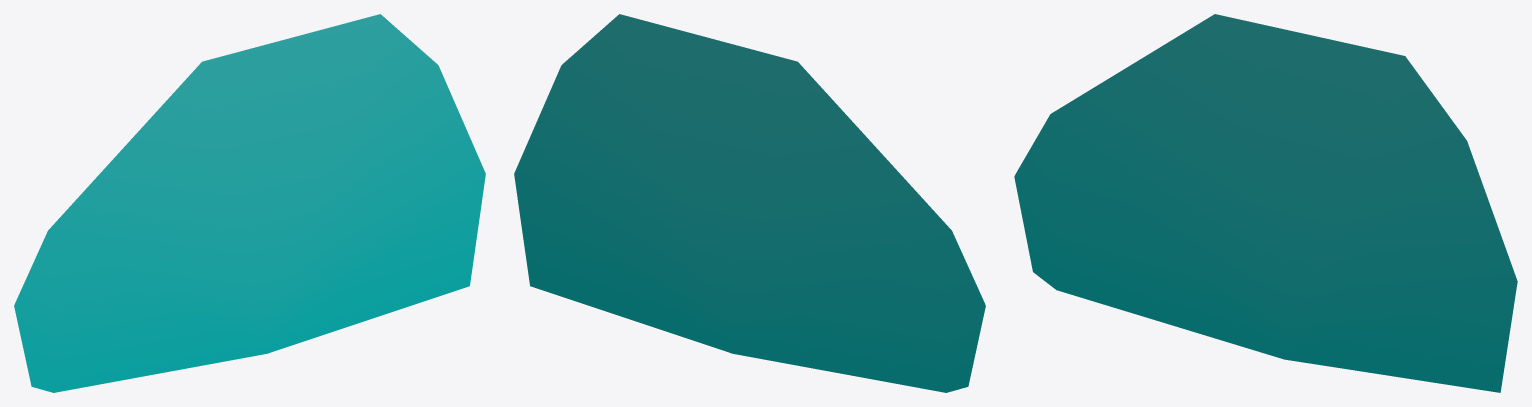
The model's file is Wild_Grass_vdilbaiia_Mid_vdilbaiia_VarJ_LOD3.fbx.
3 views of the same model, side by side, from view 1: azimuth 30°, elevation 25°; view 2: azimuth 150°, elevation 25°; view 3: azimuth 330°, elevation 25° (orthographic). The views are drawn at different scales.
Visible parts, largest first — view 1: _0y33_VarJ_LOD4; view 2: _0y33_VarJ_LOD4; view 3: _0y33_VarJ_LOD4.
Boxes of the visible parts, box(x1,y1,x2,y2) form: _0y33_VarJ_LOD4: box(14, 14, 485, 392); _0y33_VarJ_LOD4: box(514, 14, 985, 392); _0y33_VarJ_LOD4: box(1014, 14, 1517, 392).
Bounding box in the file's own units: 106 × 66.71 × 0.
